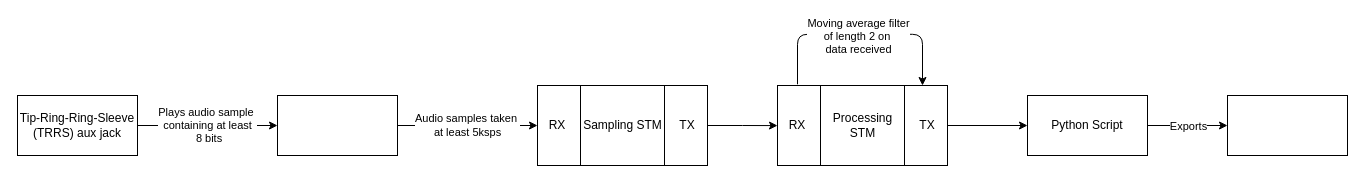
This 1365x184 diagram has some shape labels left out. The shapes that lost their labels are listed below. From the top down, each one's centre as x and y in pixels, then its label:
At (x=337, y=125): "Audio to Digital Converter (ADC)".
At (x=1287, y=125): ".wav File".
